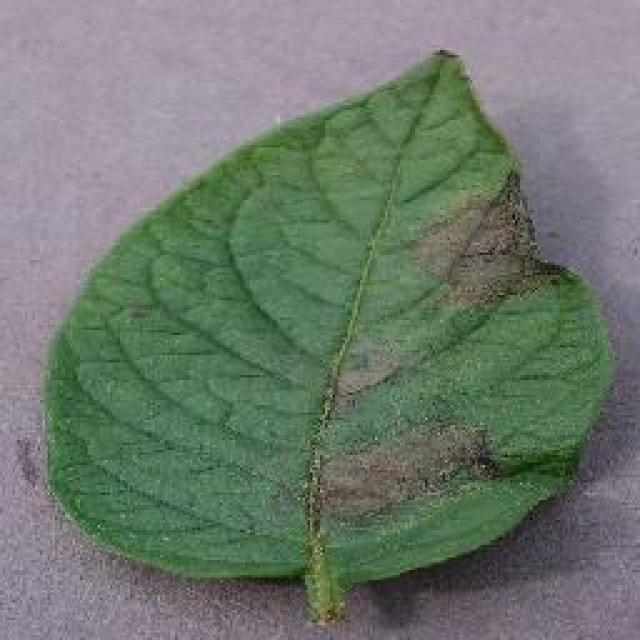Potato: (38, 45, 618, 623)
